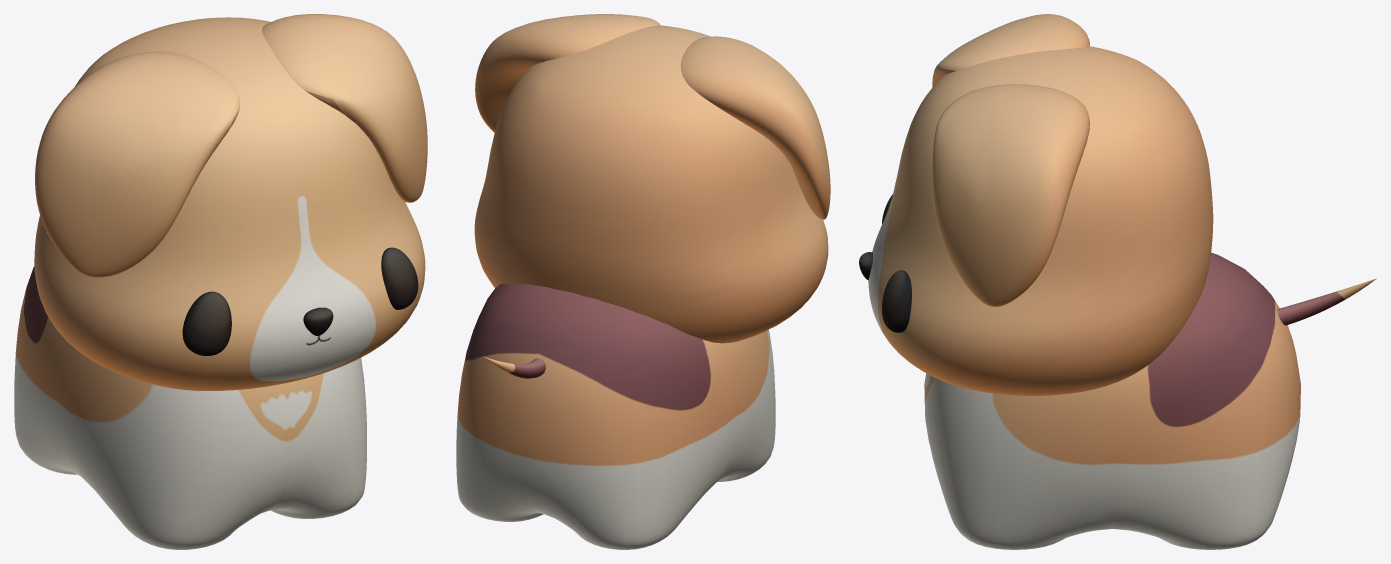
File: dog.fbx
3 renders of one model, left to right at view 1: azimuth 30°, elevation 25°; view 2: azimuth 150°, elevation 25°; view 3: azimuth 270°, elevation 25°, orthographic. The views are drawn at different scales.
Parts seen in each view (by area): view 1: puppy_puppy_head_002_0; view 2: puppy_puppy_head_002_0; view 3: puppy_puppy_head_002_0.
Boxes of the visible parts, <box> form: puppy_puppy_head_002_0: <box>14,14,427,549</box>; puppy_puppy_head_002_0: <box>456,14,830,549</box>; puppy_puppy_head_002_0: <box>859,14,1376,549</box>.
Bounding box in the file's own units: 119 × 139 × 147.
